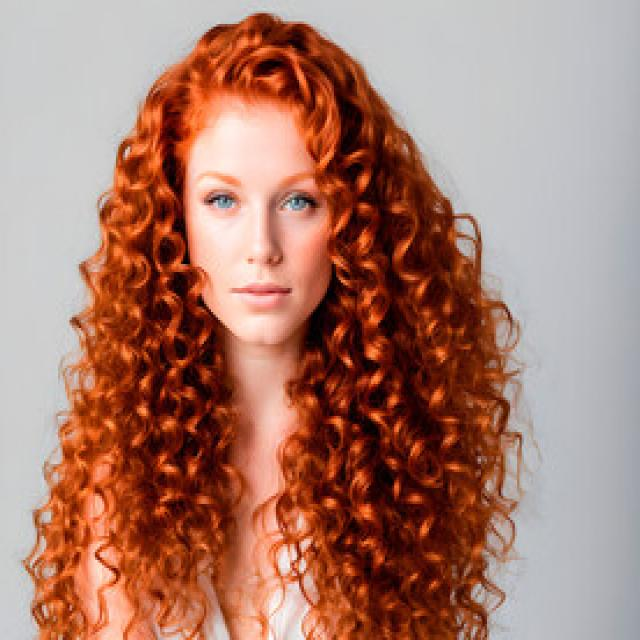Nonhelmet: (141, 24, 387, 352)
